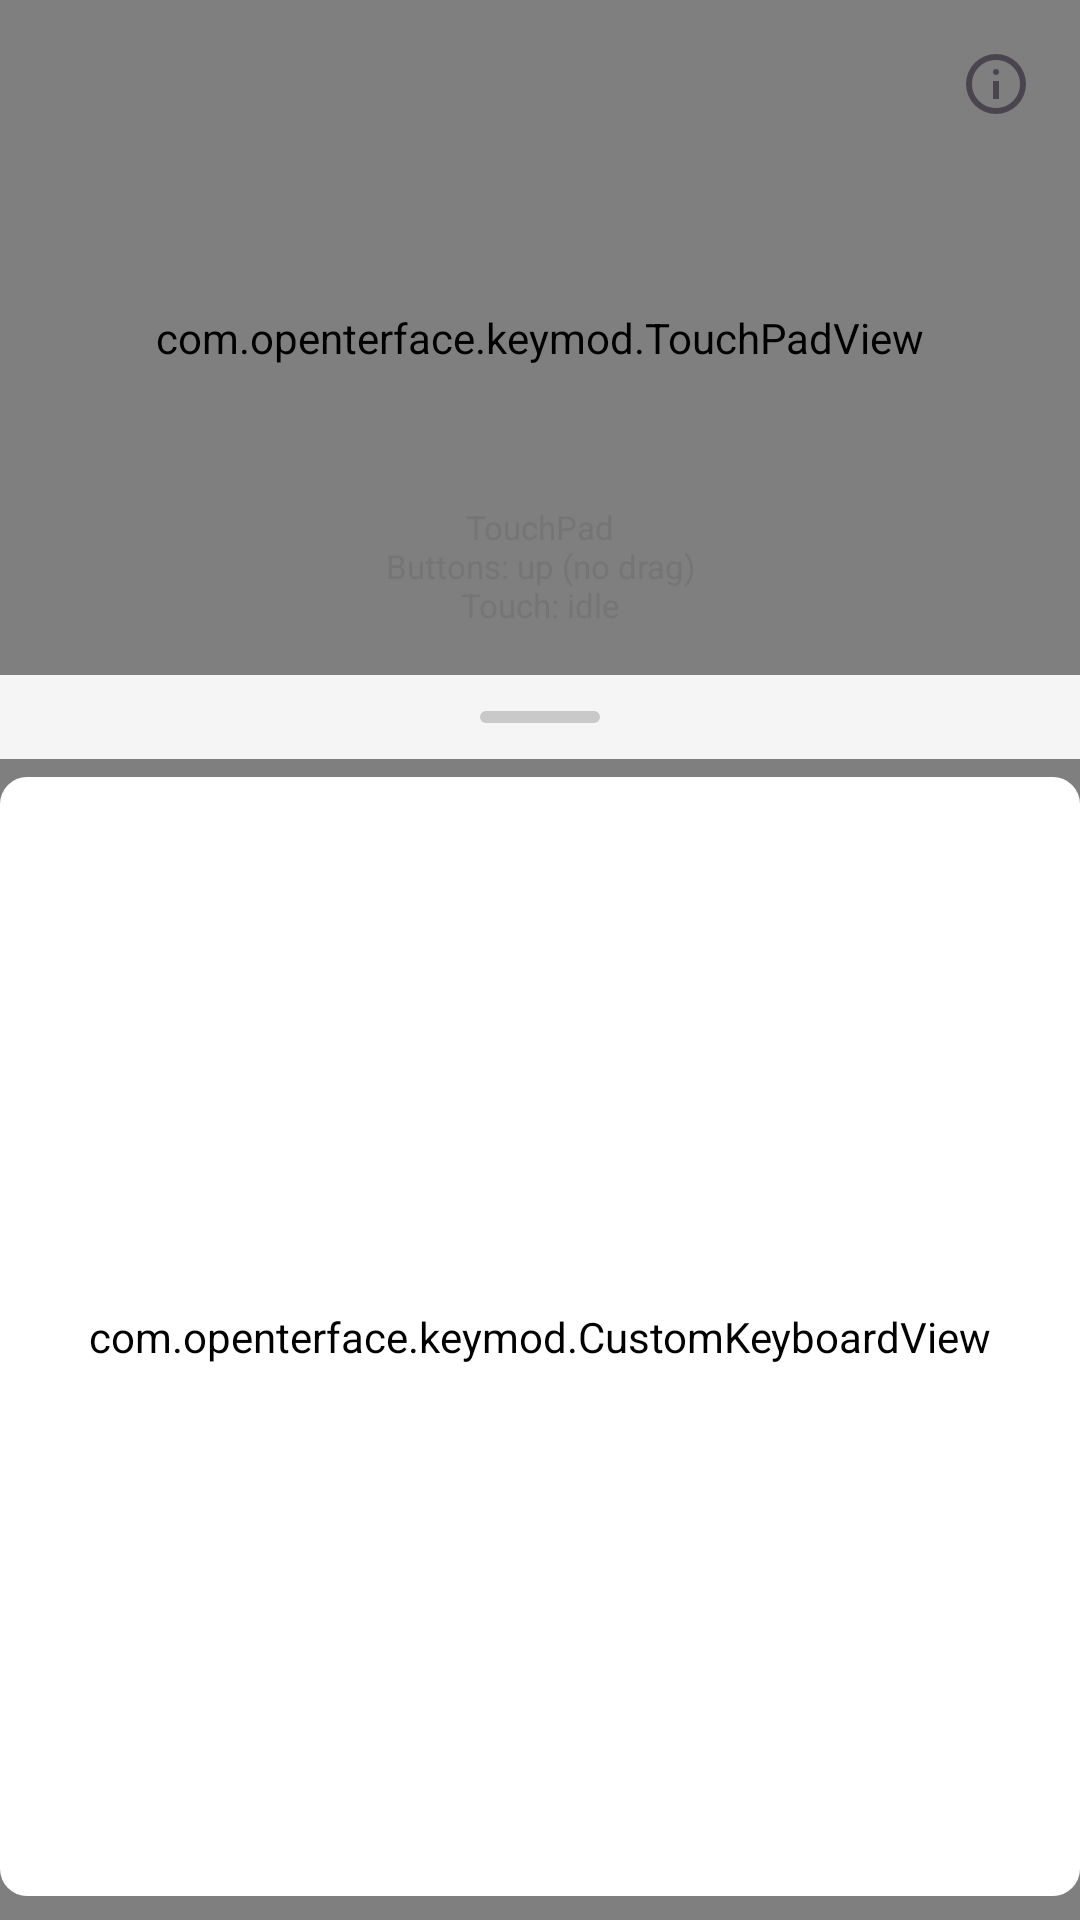

Named icons in this screenshot (1080w x 1920h) and their centers, point (x, y):
Show touchpad gesture help: point (996, 84)
